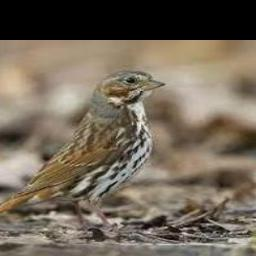Sparrow: (0, 70, 167, 230)
